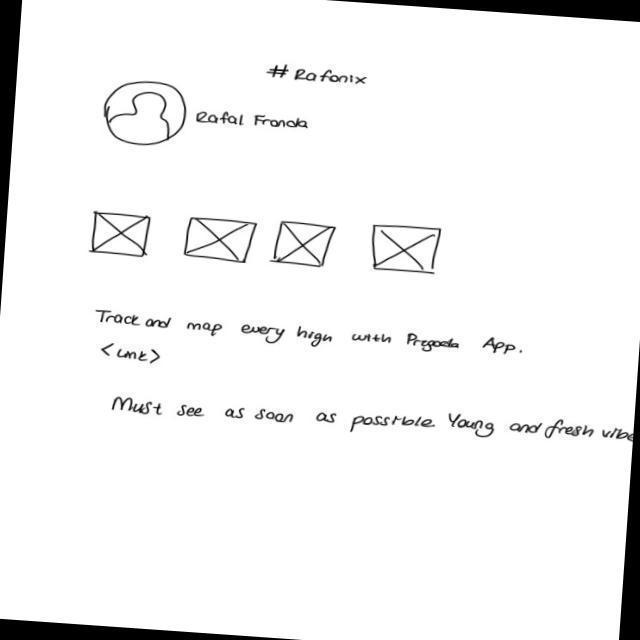image: (100, 79, 191, 150), (369, 223, 445, 276), (183, 217, 259, 267), (273, 220, 338, 269), (91, 211, 152, 259)
label: (108, 387, 635, 452), (94, 308, 528, 360), (194, 108, 312, 135), (265, 61, 371, 89)
link: (100, 342, 165, 367)
